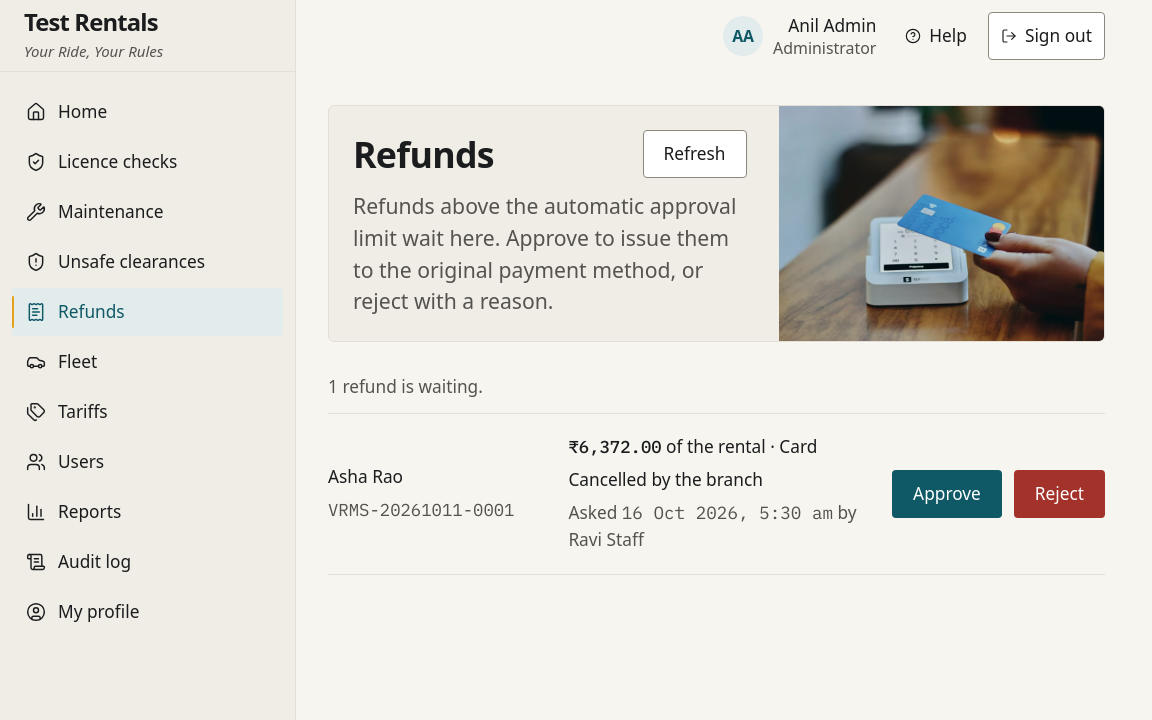
refund approval (UC 13 Approve Refund) › rejecting needs a reason, which the customer is sent
Click the button "Reject" at (1059, 494), box 1014,470 -> 1105,518
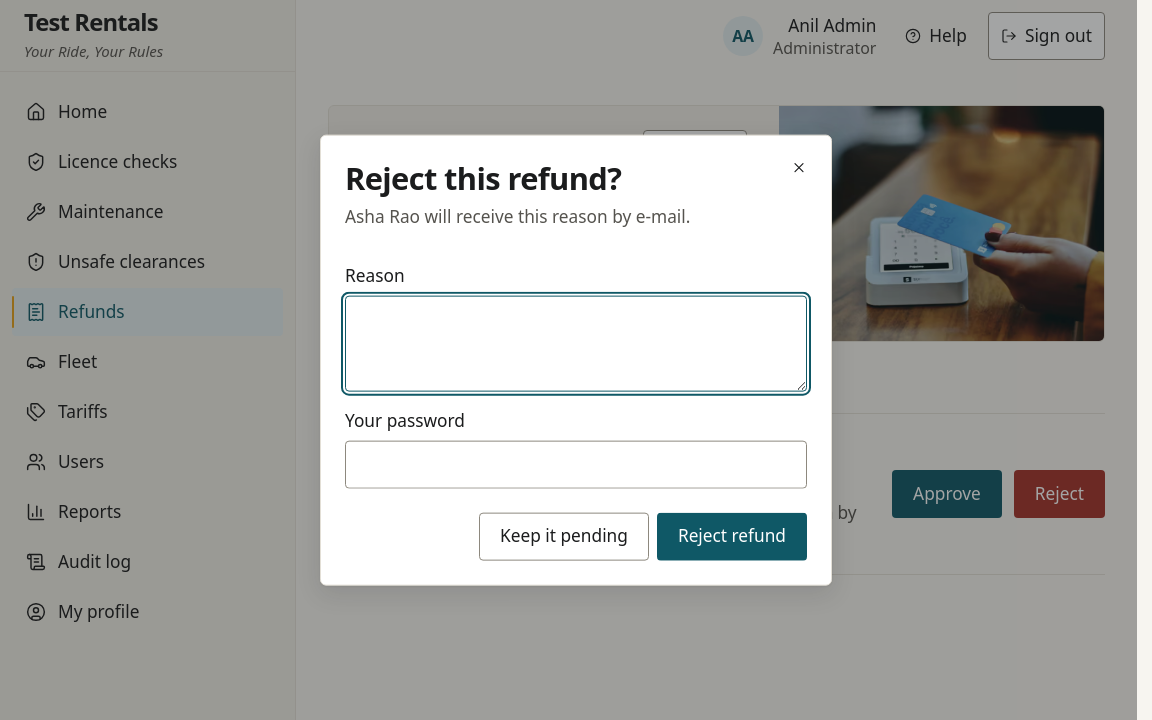
Type "Test@12345" into the password field labelled "Your password" at (576, 464), box 345,440 -> 807,488
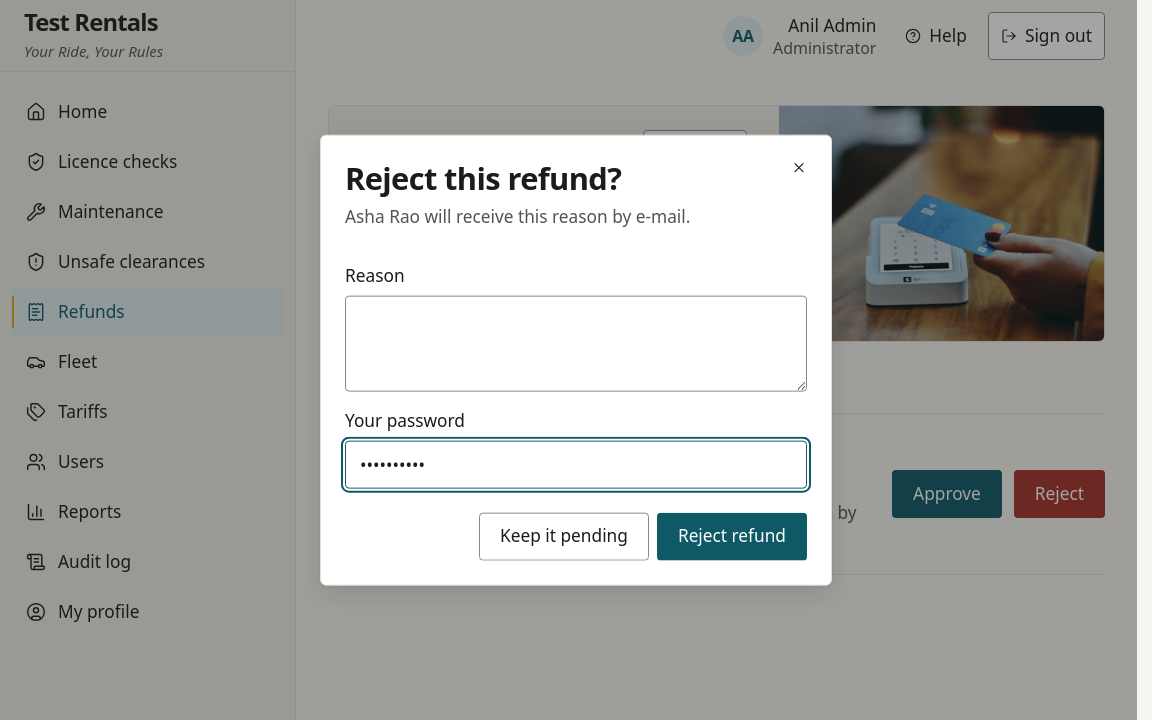
Click the button "Reject refund" at (732, 536), box 657,512 -> 807,560
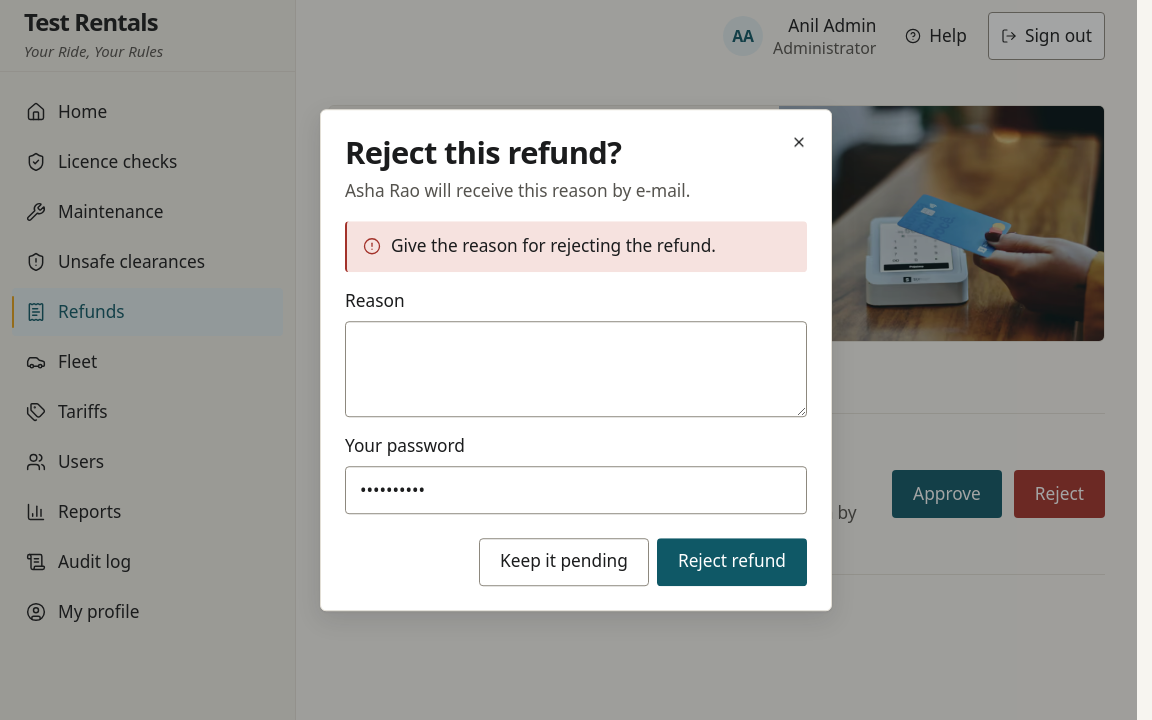
Expected: the text "Give the reason for rejecting the refund." is shown, 391,233 -> 716,260
Type "The cancellation was after the cut-off." into the text box labelled "Reason" at (576, 369), box 345,321 -> 807,417
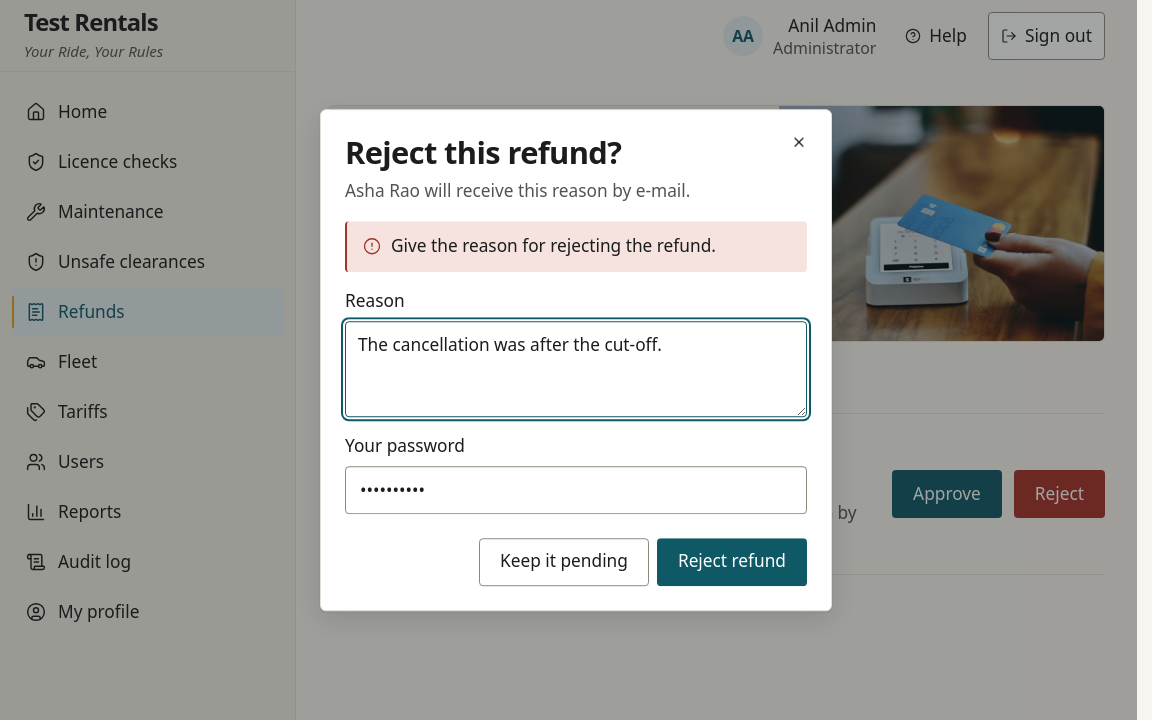
Click the button "Reject refund" at (732, 562), box 657,538 -> 807,586
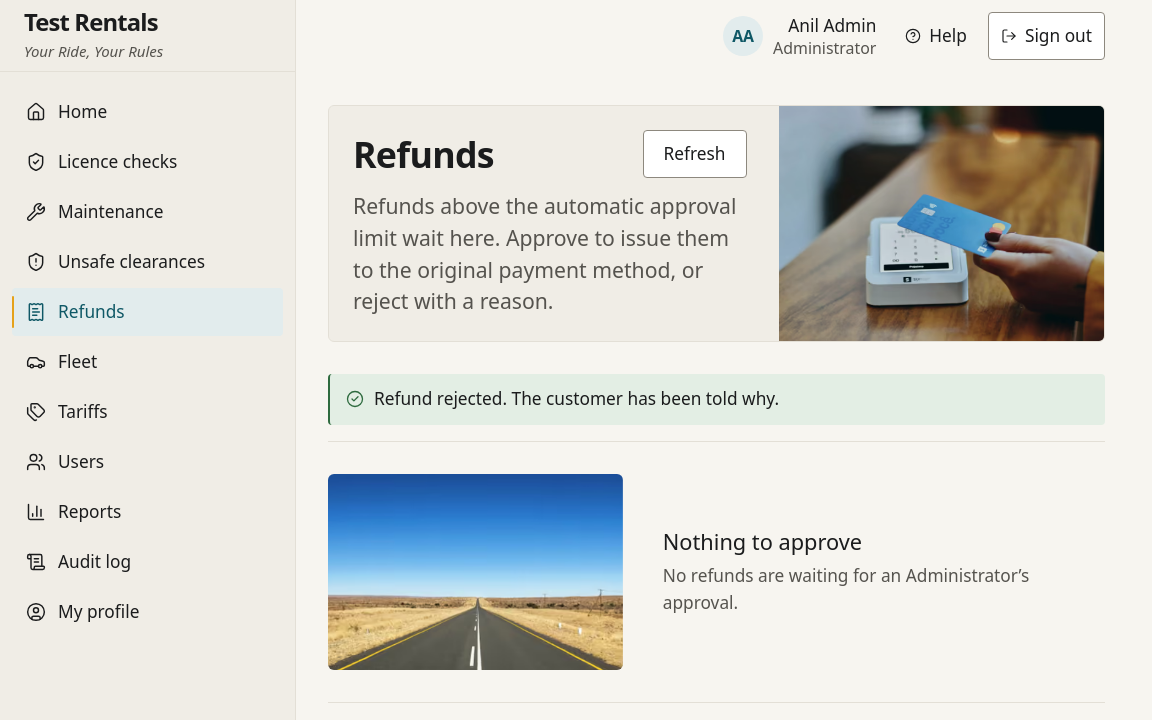
Expected: the text "Refund rejected. The customer has been told why." is shown, 374,386 -> 779,413
